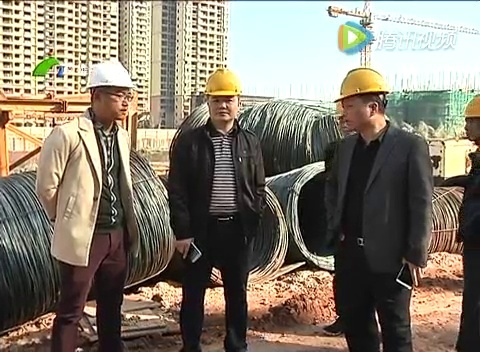white: (85, 60, 133, 122)
yellow: (337, 68, 388, 132), (202, 69, 242, 124), (461, 92, 480, 143)
